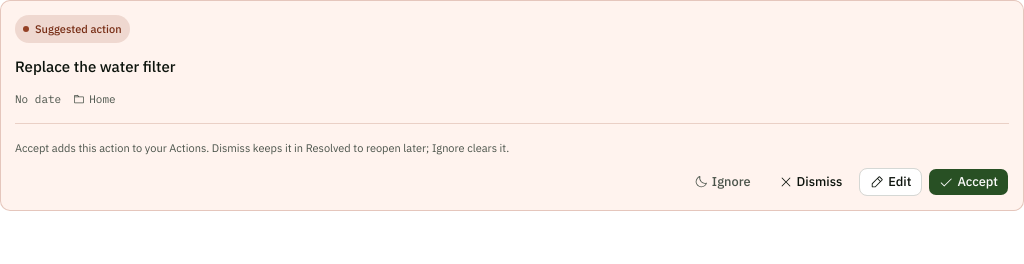
SuggestedGeneralActionReviewCard interaction › surfaces a recoverable error when accept fails, leaving the card in place
This screenshot has width=1024, height=264.
What coordinates should you click on to do the following:
click the button "Accept"
I would click on:
 (969, 182)
Its box is [928,168,1009,196].
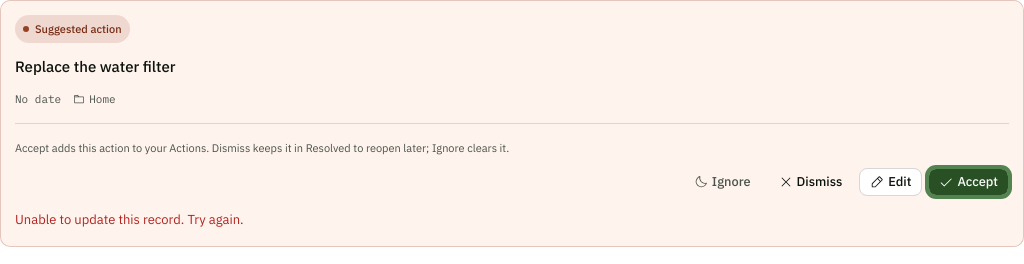
Check: the message "Unable to update this record. Try again." is shown, box [15,211,244,228]
